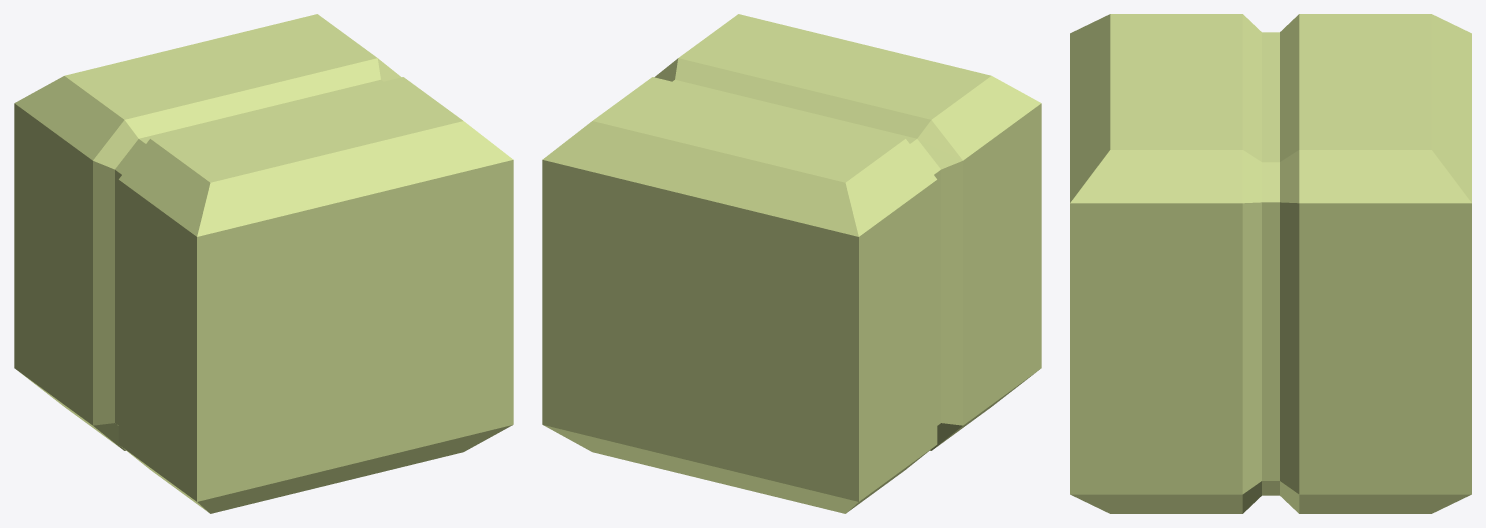
The model's file is DifferentCube.DAE.
3 renders of one model, left to right at view 1: azimuth 30°, elevation 25°; view 2: azimuth 150°, elevation 25°; view 3: azimuth 270°, elevation 25°, orthographic. The views are drawn at different scales.
Visible parts, largest first — view 1: Box001; view 2: Box001; view 3: Box001.
Part boxes in pixels (<box>): Box001: <box>14,14,513,513</box>; Box001: <box>542,14,1041,513</box>; Box001: <box>1070,14,1471,513</box>.
Size of the model in its own units: 10 by 10 by 10.
